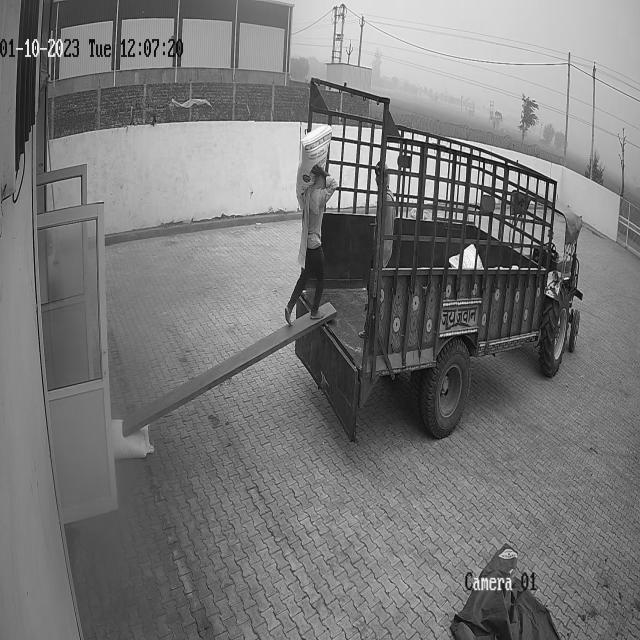sack: (296, 125, 332, 212), (111, 418, 152, 458)
